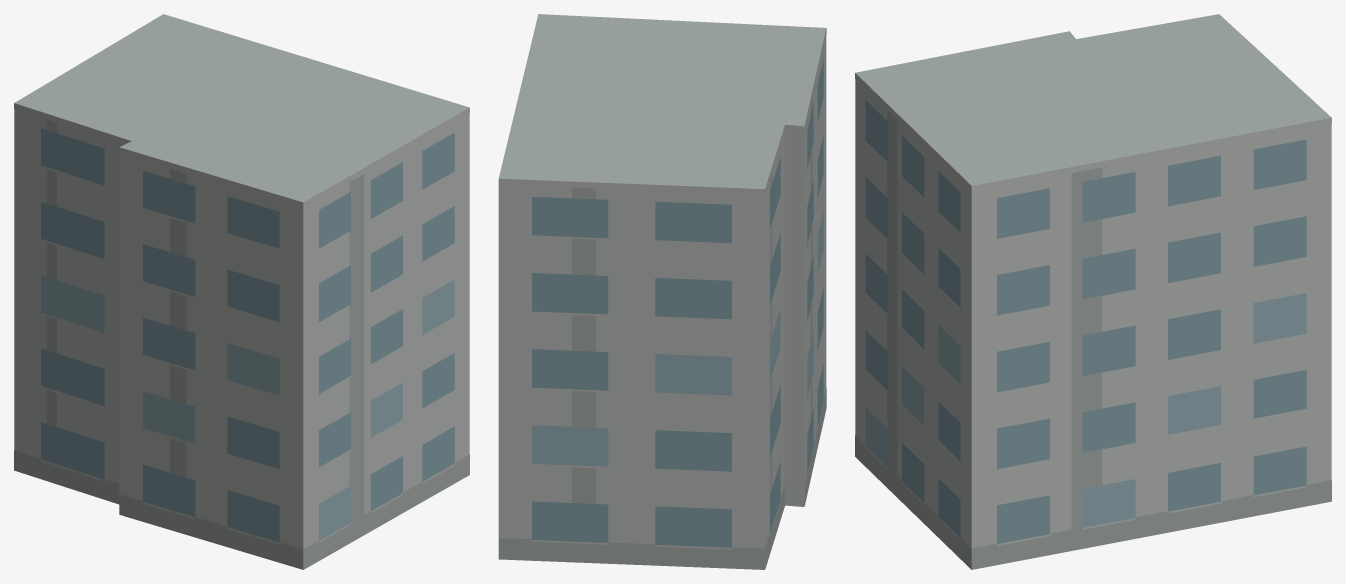
The model's file is survey-upis-32859929.glb.
3 views of the same model, side by side, from view 1: azimuth 30°, elevation 25°; view 2: azimuth 150°, elevation 25°; view 3: azimuth 270°, elevation 25° (orthographic). The views are drawn at different scales.
Visible parts, largest first — view 1: survey-upis-32859929.tmp; view 2: survey-upis-32859929.tmp; view 3: survey-upis-32859929.tmp.
Part boxes in pixels (x1=…): survey-upis-32859929.tmp: x1=14, y1=14, x2=469, y2=569; survey-upis-32859929.tmp: x1=498, y1=14, x2=826, y2=569; survey-upis-32859929.tmp: x1=855, y1=14, x2=1331, y2=569.
Bounding box in the file's own units: 14.42 × 15 × 16.89.
